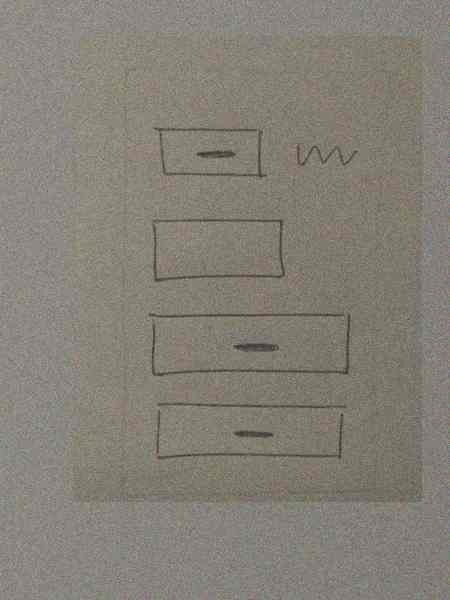button: (143, 308, 357, 384), (147, 397, 356, 465), (150, 122, 277, 187)
text: (294, 136, 360, 178)
text_input: (148, 213, 289, 286)
